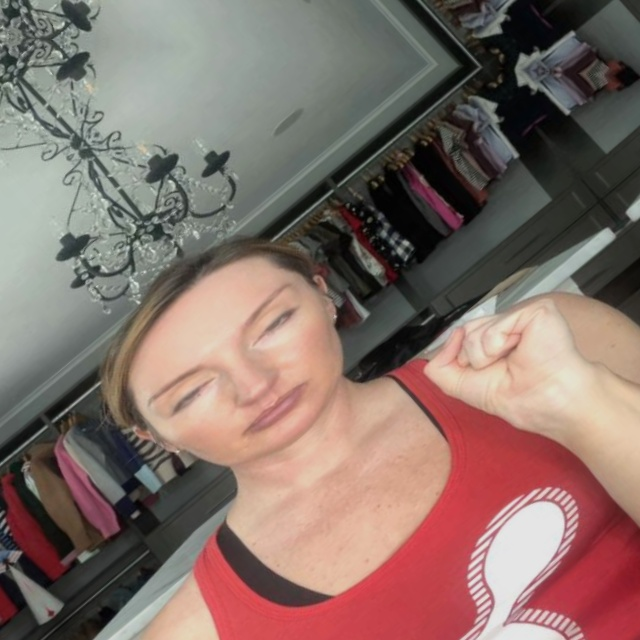Rock: (404, 254, 613, 459)
